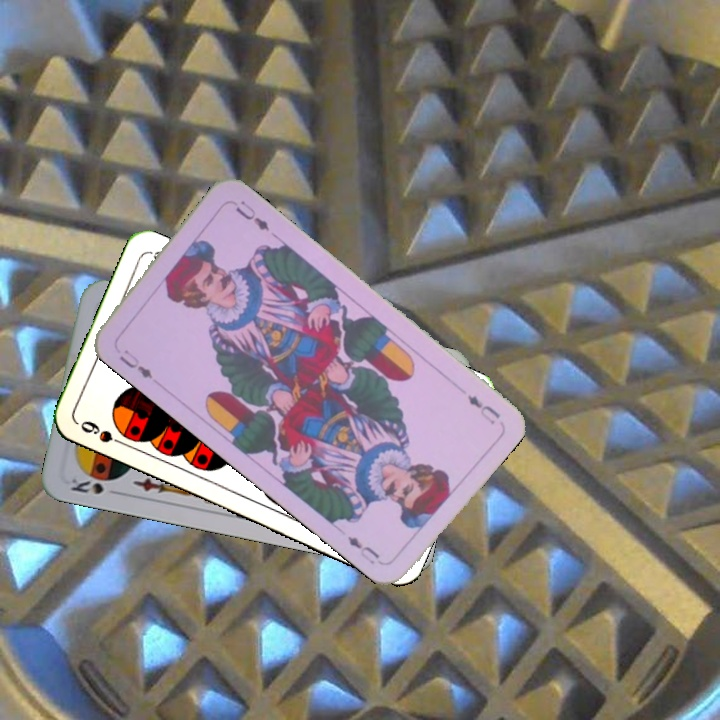EU: (115, 345, 156, 382), (463, 391, 503, 428)
S9: (76, 416, 131, 450)
SK: (66, 474, 123, 498)
